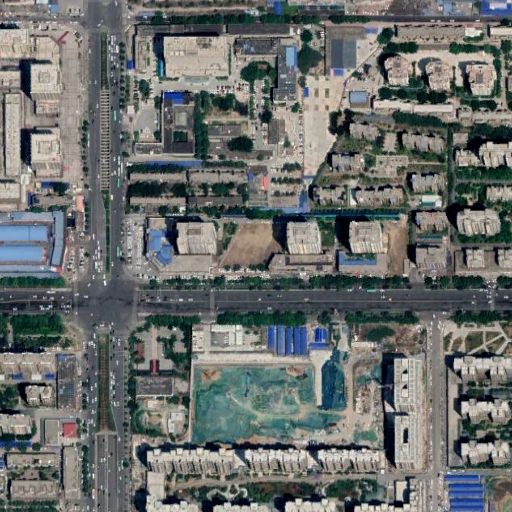cw: (190, 363, 384, 450)
